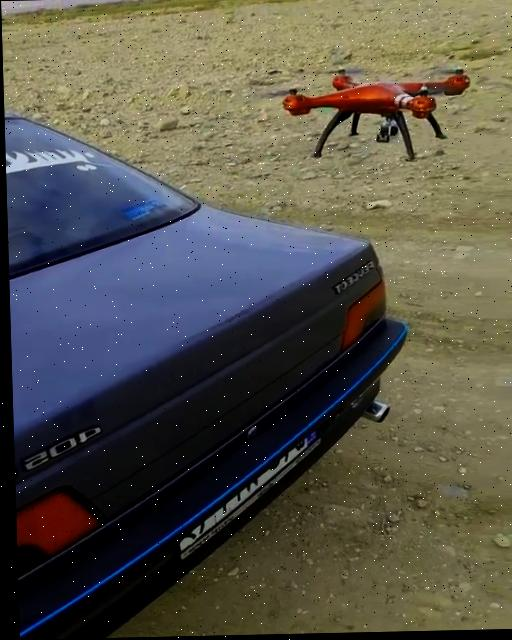drone: (254, 63, 480, 168)
